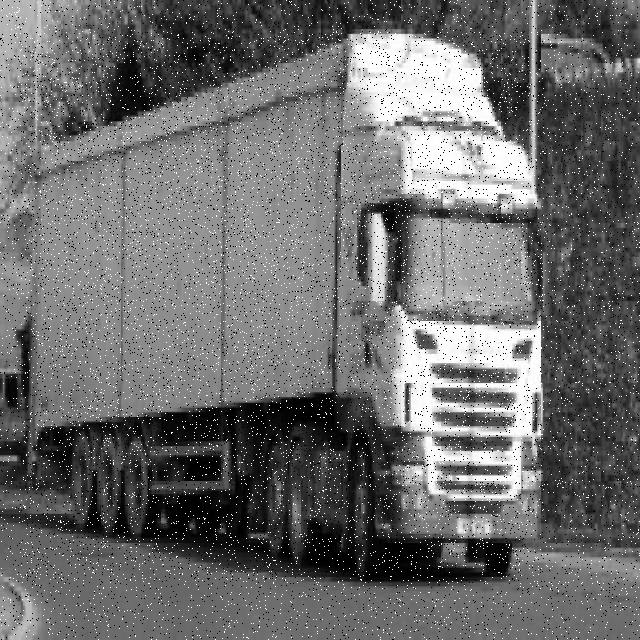Box Truck: (21, 32, 544, 581)
